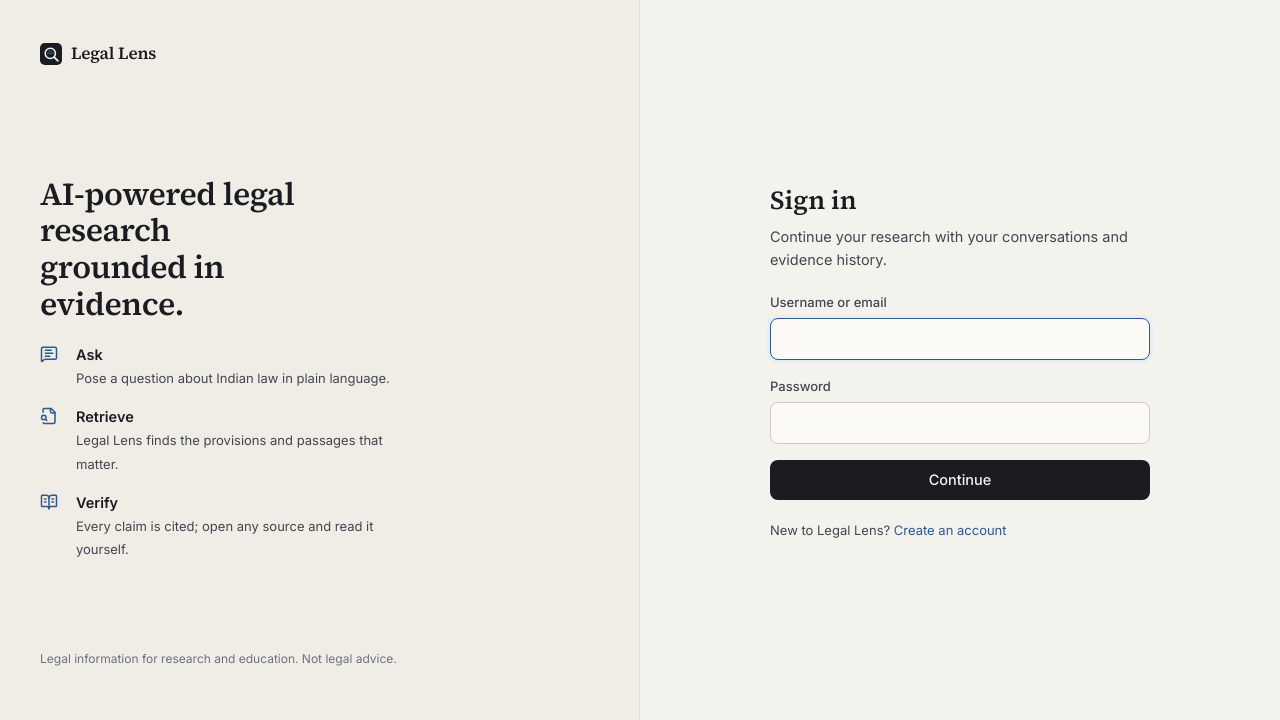
Test: authentication › shows invalid credentials without leaking which part was wrong
Type "alice" into the field labelled "Username or email" at coordinates (960, 339), box [770,318,1150,360]
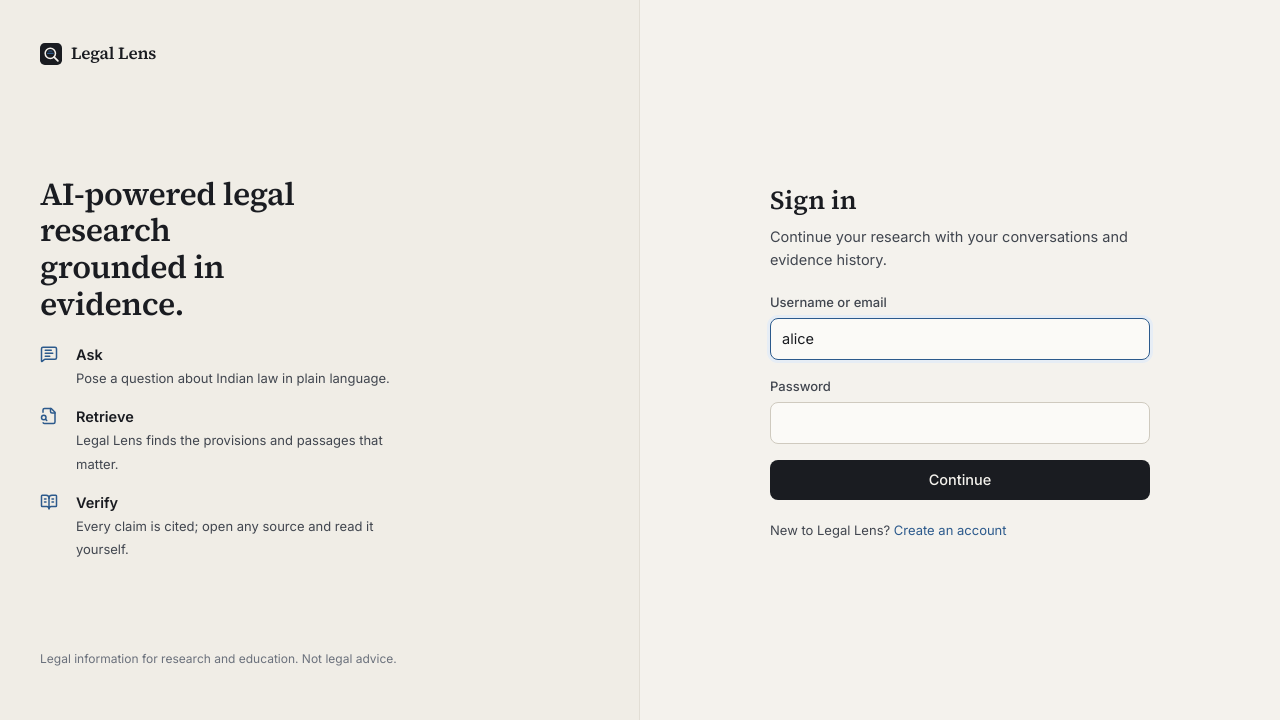
Type "wrong-pass-1" into the password field labelled "Password" at coordinates (960, 423), box [770,402,1150,444]
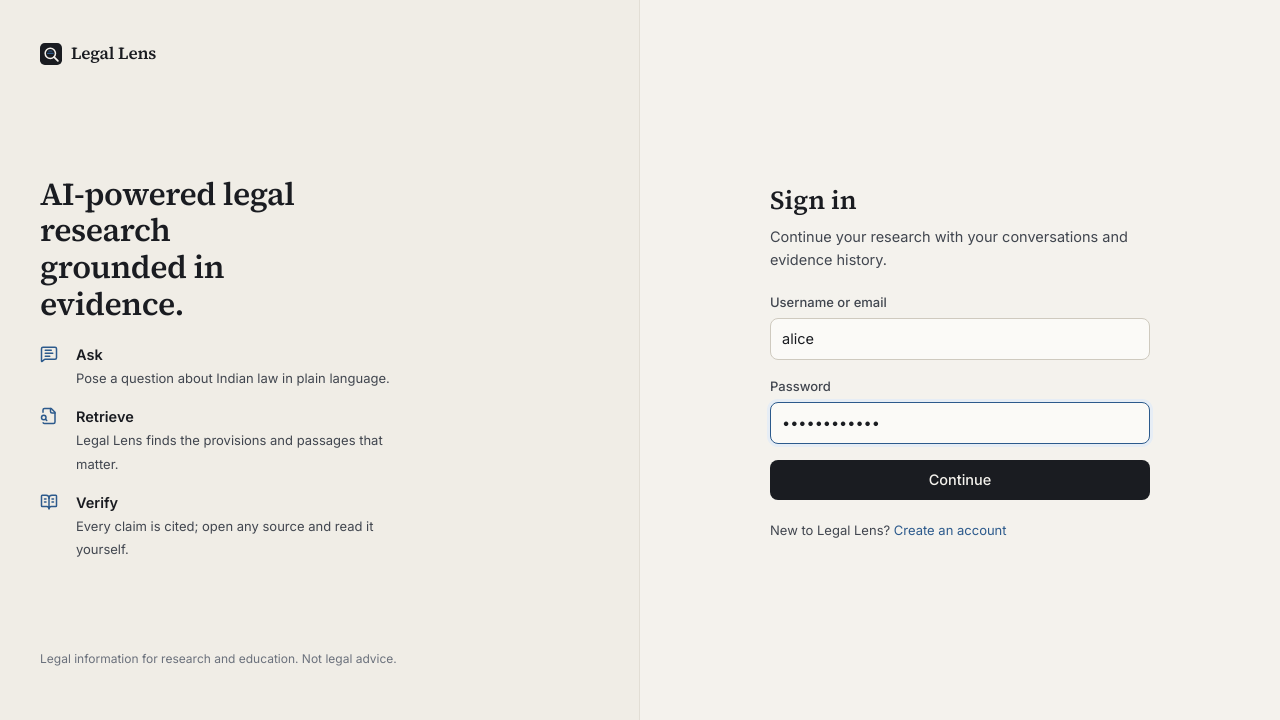
Click the button "Continue" at coordinates (960, 480), box [770,460,1150,500]
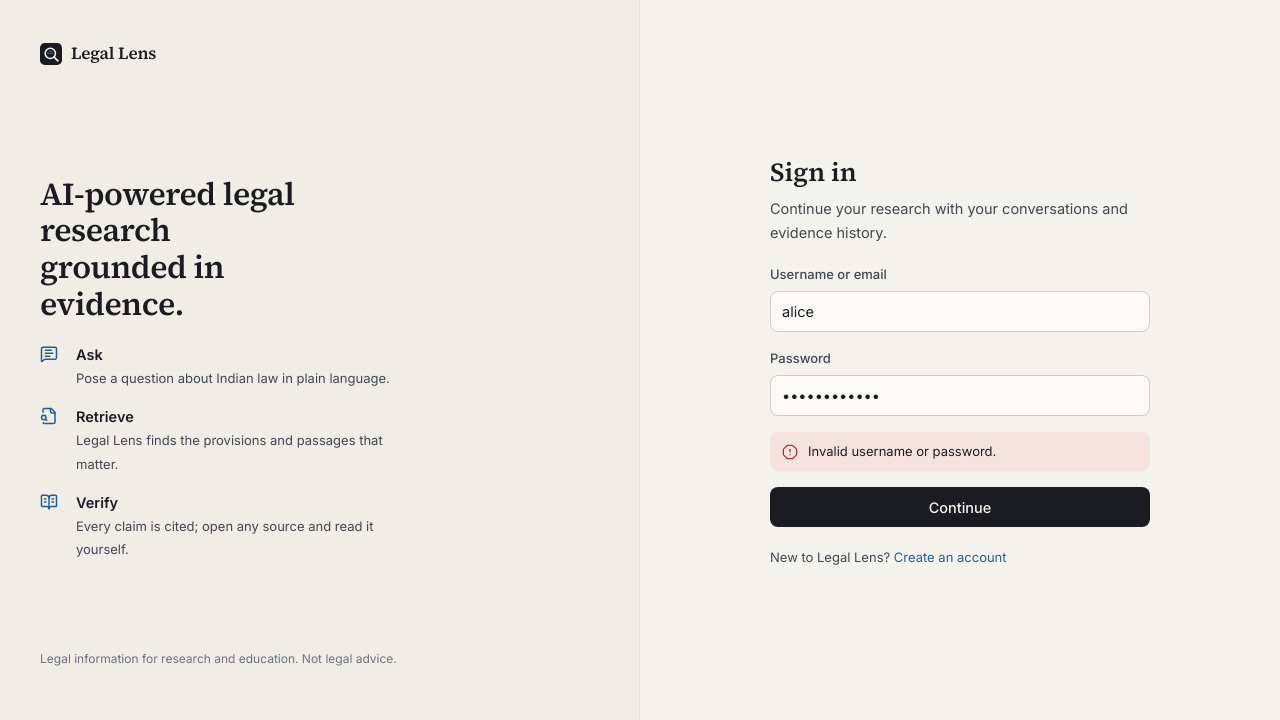
expect the message reads "Invalid username or password.": met, box [808,443,996,459]
